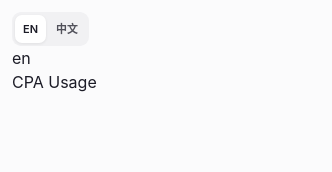
Scenario: preserves the in-memory locale when localStorage remains readable but setItem throws
Expected: the text with test id "locale" reads "en", [12, 48, 31, 68]
Click the button with aria-label "Switch language to Chinese": coordinates (67, 29) [48, 15, 86, 43]
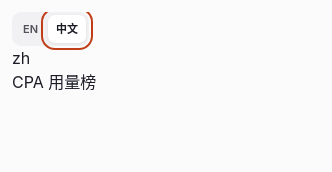
Now the text with test id "locale" reads "zh", box [12, 48, 30, 68]
Now the heading reads "CPA 用量榜", box [12, 72, 96, 92]
Click the button with aria-label "切换为英文": coordinates (30, 29) [15, 15, 46, 43]
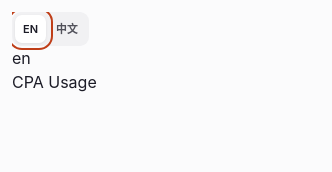
Now the text with test id "locale" reads "en", box [12, 48, 31, 68]
Now the heading reads "CPA Usage", box [12, 72, 97, 92]
